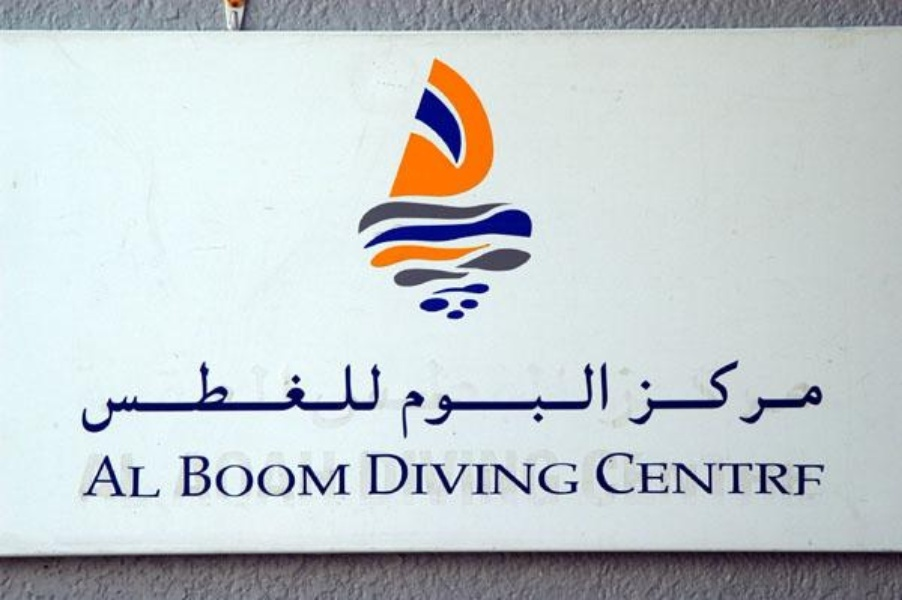text: (417, 361, 432, 440), (433, 361, 448, 440), (449, 361, 464, 440), (465, 361, 480, 440), (481, 361, 496, 440), (497, 361, 512, 440), (513, 361, 528, 440), (529, 361, 544, 440), (545, 361, 560, 440), (561, 361, 576, 440), (577, 361, 592, 440), (593, 361, 608, 440), (97, 361, 112, 435), (113, 361, 128, 435), (129, 361, 144, 435), (145, 361, 160, 435), (161, 361, 176, 435), (177, 361, 192, 435), (193, 361, 208, 435), (209, 361, 224, 435), (225, 361, 240, 435), (241, 361, 256, 435), (257, 361, 272, 435), (273, 361, 288, 435), (289, 361, 304, 435), (305, 361, 320, 435), (321, 361, 336, 435), (337, 361, 352, 435), (353, 361, 368, 435), (402, 361, 416, 440), (82, 361, 96, 435), (641, 360, 656, 428), (657, 360, 672, 428), (673, 360, 688, 428), (689, 360, 704, 428), (705, 360, 720, 428), (721, 360, 736, 428), (737, 360, 752, 428), (753, 360, 768, 428), (769, 360, 784, 428), (785, 360, 800, 428), (801, 360, 816, 428), (369, 361, 381, 435), (627, 360, 640, 428), (609, 452, 624, 498), (625, 452, 640, 498), (641, 452, 656, 498), (657, 452, 672, 498), (673, 452, 688, 498), (689, 452, 704, 498), (705, 452, 720, 498), (721, 452, 736, 498), (737, 452, 752, 498), (753, 452, 768, 498), (769, 452, 784, 498), (785, 452, 800, 498), (801, 452, 816, 498), (97, 453, 112, 498), (113, 453, 128, 498), (129, 453, 144, 498), (145, 453, 160, 498), (369, 452, 384, 495), (385, 452, 400, 495), (401, 452, 416, 495), (417, 452, 432, 495), (433, 452, 448, 495), (449, 452, 464, 495), (465, 452, 480, 495), (481, 452, 496, 495), (497, 452, 512, 495), (513, 452, 528, 495), (529, 452, 544, 495), (545, 452, 560, 495), (561, 452, 576, 495), (177, 455, 192, 498), (193, 455, 208, 498), (209, 455, 224, 498), (225, 455, 240, 498), (241, 455, 256, 498), (257, 455, 272, 498), (273, 455, 288, 498), (289, 455, 304, 498), (305, 455, 320, 498), (321, 455, 336, 498), (337, 455, 351, 498), (596, 452, 608, 498), (86, 453, 96, 498), (817, 452, 826, 498), (817, 360, 823, 428), (161, 453, 166, 498), (609, 361, 611, 440), (366, 452, 368, 495), (577, 452, 578, 495)
